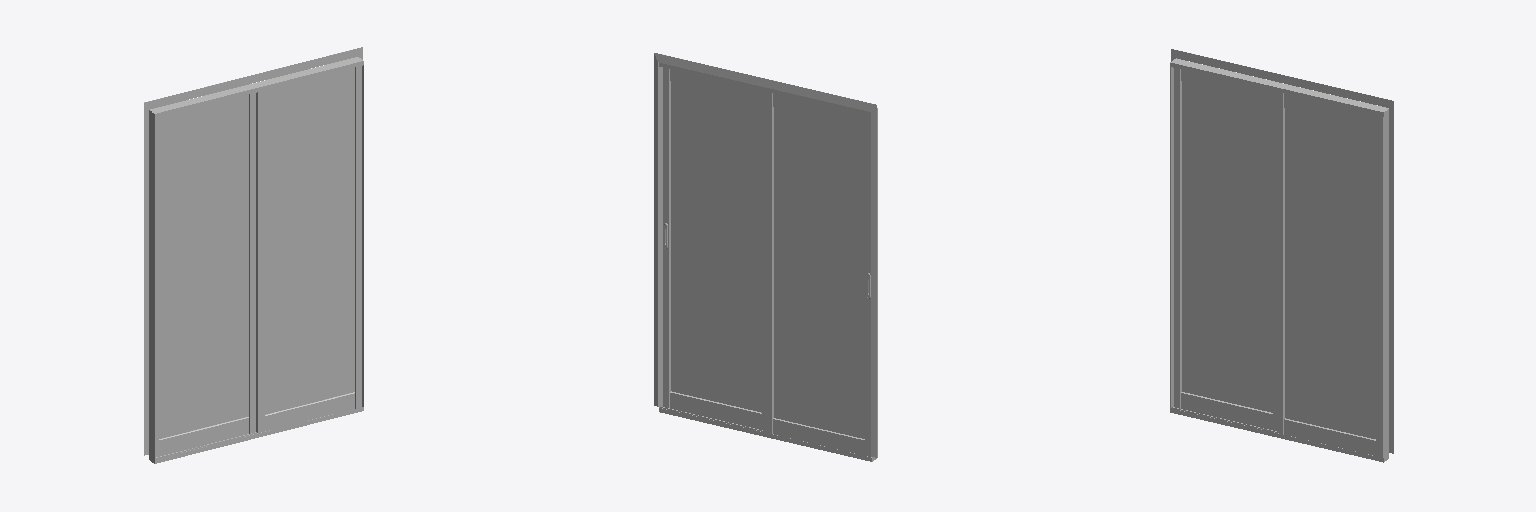
File: VentanaCuarto_CatDog.obj
The picture shows the model from 3 angles: view 1: azimuth 30°, elevation 25°; view 2: azimuth 150°, elevation 25°; view 3: azimuth 330°, elevation 25°; orthographic projection.
Visible parts, largest first — view 1: VentanaCuarto_CatDog:polySurface553; view 2: VentanaCuarto_CatDog:polySurface553; view 3: VentanaCuarto_CatDog:polySurface553.
Part boxes in pixels (left/top/right/bottom): VentanaCuarto_CatDog:polySurface553: left=144, top=47, right=363, bottom=463; VentanaCuarto_CatDog:polySurface553: left=654, top=53, right=877, bottom=461; VentanaCuarto_CatDog:polySurface553: left=1170, top=49, right=1393, bottom=462.
Size of the model in its own units: 6.16 by 9.54 by 0.4066.